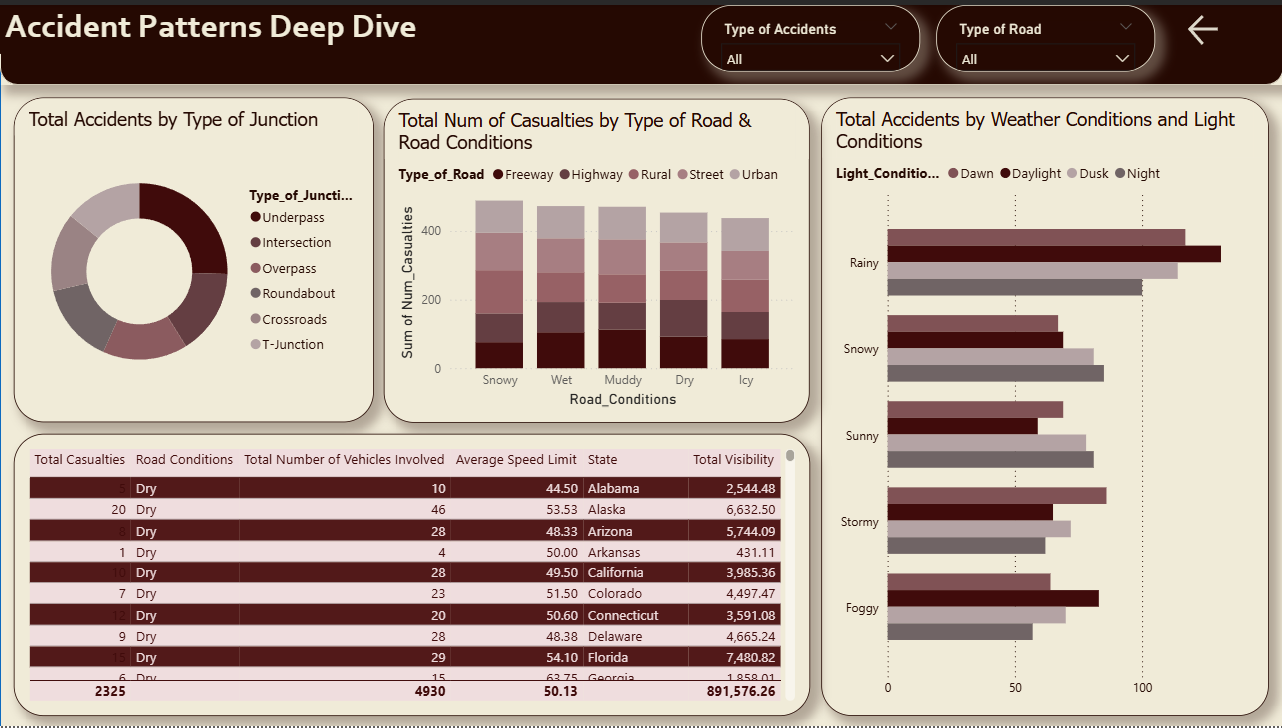

This screenshot's page, from the dashboard's own definition file:
{"tool":"powerbi","page":{"name":"Road Analysis","canvas":[1280,720],"ordinal":1},"visuals":[{"type":"shape","box":[0,0,1280.4,720.6],"z":0},{"type":"shape","box":[0,10,1280.4,69.8],"z":1000},{"type":"textbox","title":"  Accident Patterns Deep Dive","box":[0,0,1280.4,48.6],"z":2000},{"type":"clusteredBarChart","title":"Total Accidents by Weather Conditions and Light Conditions","fields":{"Category":["road_accident_data_cleaned.Weather_Conditions"],"Y":["_Measures.Total Accidents"],"Series":["road_accident_data_cleaned.Light_Conditions"]},"box":[819.1,92.3,446.3,617.1],"z":3000},{"type":"donutChart","title":"Total Accidents by Type of Junction","fields":{"Category":["road_accident_data_cleaned.Type_of_Junction"],"Y":["_Measures.Total Accidents"]},"box":[13.7,92.3,359.1,324.2],"z":4000},{"type":"columnChart","title":"Total Num of Casualties by Type of Road & Road Conditions","fields":{"Category":["road_accident_data_cleaned.Road_Conditions"],"Y":["Sum(road_accident_data_cleaned.Num_Casualties)"],"Series":["road_accident_data_cleaned.Type_of_Road"]},"box":[382.8,93.5,425.1,322.9],"z":5000},{"type":"tableEx","title":"Total Accidents by Type of Junction","fields":{"Values":["_Measures.Total Casualties","road_accident_data_cleaned.Road_Conditions","Sum(road_accident_data_cleaned.Num_Vehicles_Involved)","Avg(road_accident_data_cleaned.Speed_Limit)","road_accident_data_cleaned.State","Sum(road_accident_data_cleaned.Visibility)"]},"box":[13.7,427.6,794.2,281.8],"z":6000},{"type":"slicer","fields":{"Values":["road_accident_data_cleaned.Type_of_Accident"]},"box":[699.4,0,218.2,66.1],"z":7000},{"type":"slicer","fields":{"Values":["road_accident_data_cleaned.Type_of_Road"]},"box":[933.8,0,218.2,66.1],"z":7001},{"type":"actionButton","box":[1180.7,5,99.7,39.9],"z":7002}]}

Visuals, with their boxes in screenshot pixels (x1, y1, x2, y2), scaled from the page's 1280x720 canvas onto the 1282x728 screenshot:
shape: region(0, 0, 1281, 727)
shape: region(0, 10, 1281, 81)
"  Accident Patterns Deep Dive" textbox: region(0, 0, 1281, 49)
"Total Accidents by Weather Conditions and Light Conditions" clusteredBarChart: region(820, 93, 1267, 717)
"Total Accidents by Type of Junction" donutChart: region(14, 93, 373, 421)
"Total Num of Casualties by Type of Road & Road Conditions" columnChart: region(383, 95, 809, 421)
"Total Accidents by Type of Junction" tableEx: region(14, 432, 809, 717)
slicer - road_accident_data_cleaned.Type_of_Accident: region(700, 0, 919, 67)
slicer - road_accident_data_cleaned.Type_of_Road: region(935, 0, 1154, 67)
actionButton: region(1183, 5, 1281, 45)
